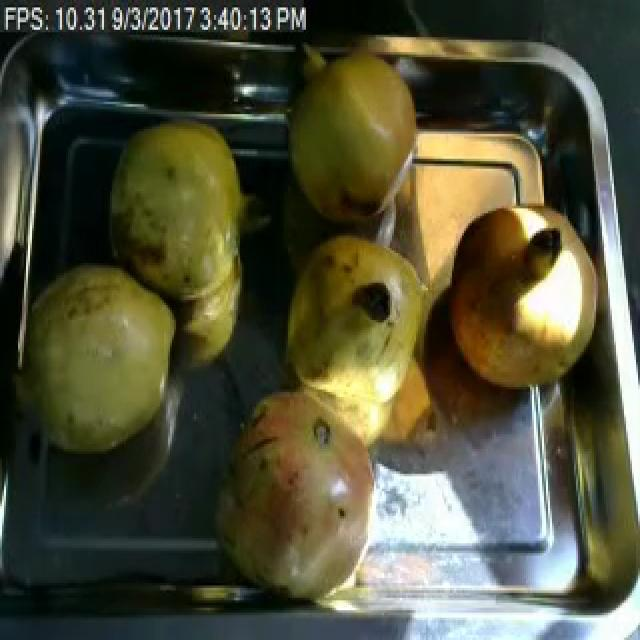fruit: (208, 365, 396, 610), (8, 256, 186, 467), (440, 193, 604, 402), (280, 34, 424, 240), (104, 114, 250, 310), (282, 228, 438, 407)
